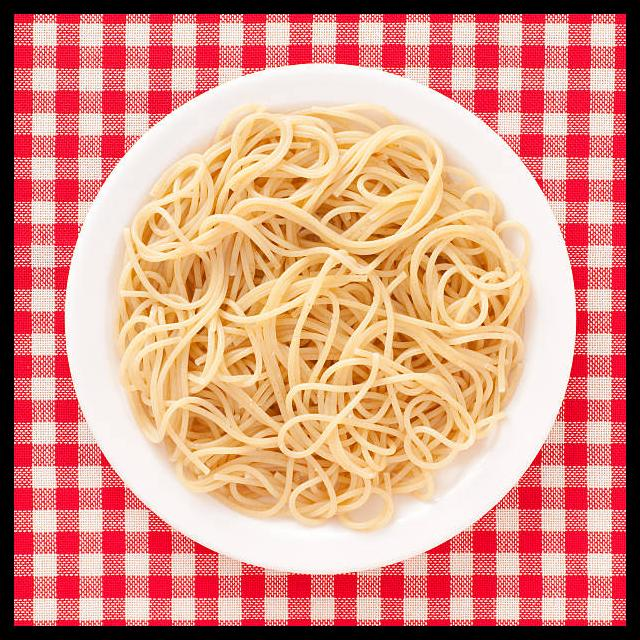noodles: (116, 103, 532, 534)
